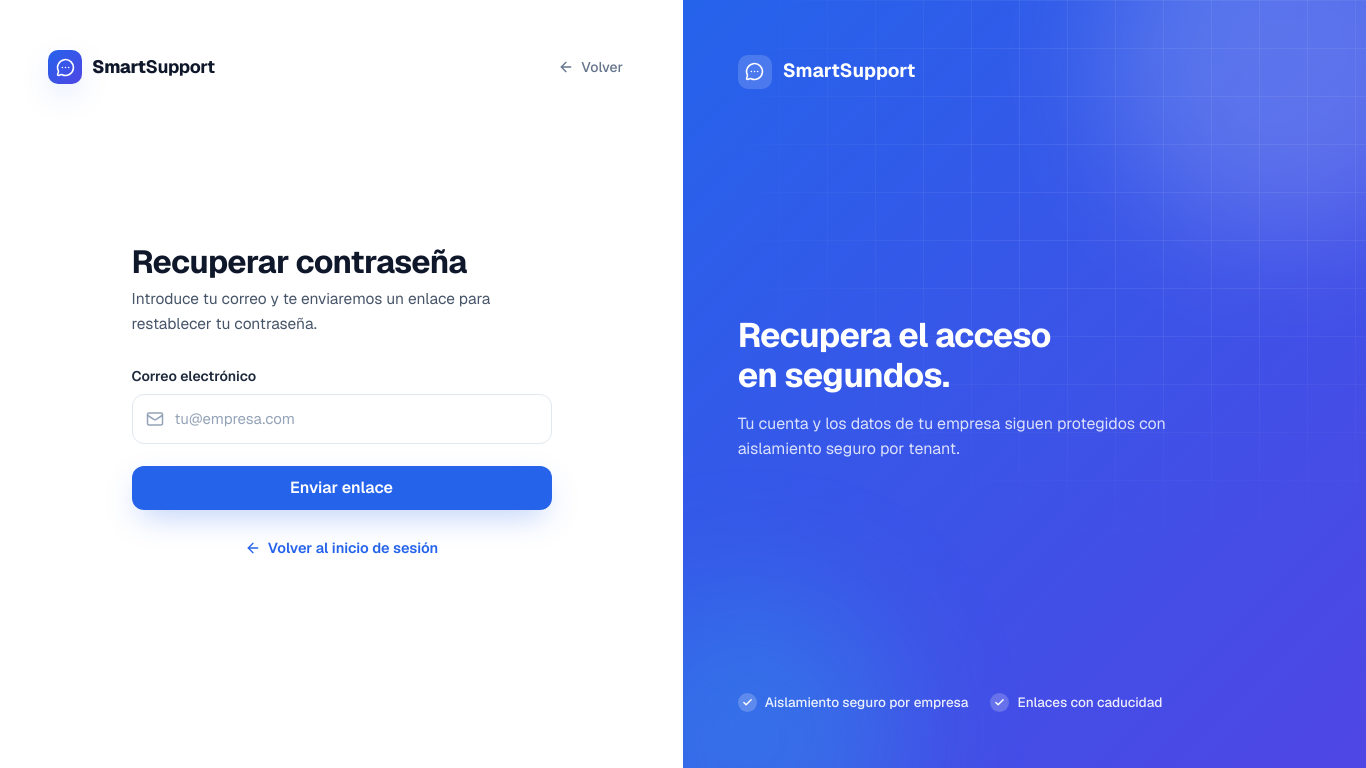
Test case: ForgotPasswordPage › muestra error si el email es inválido
The width and height of the screenshot is (1366, 768).
In the field labelled "Correo electrónico": (342, 419) [132,394,552,444], type "no-es-email"
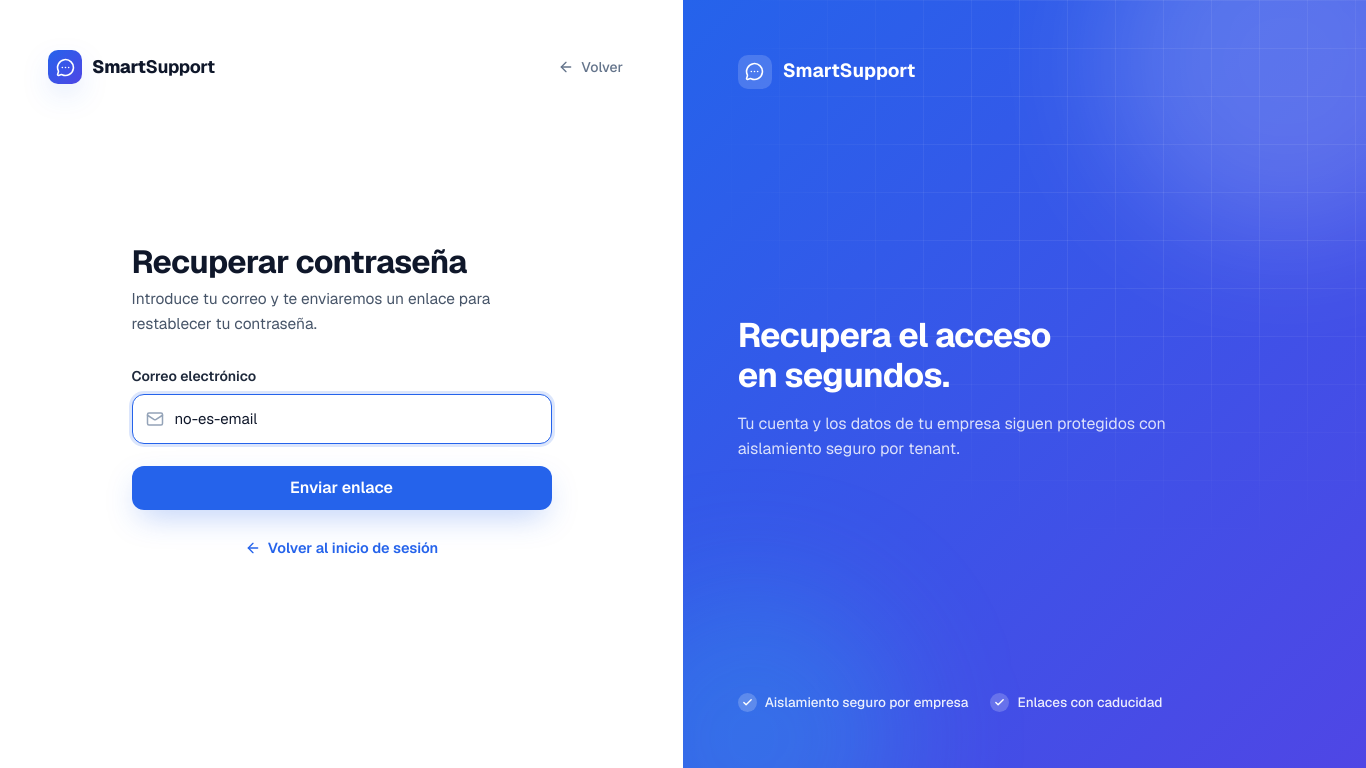
Click the button "Enviar enlace": click(342, 488) [132,466,552,510]
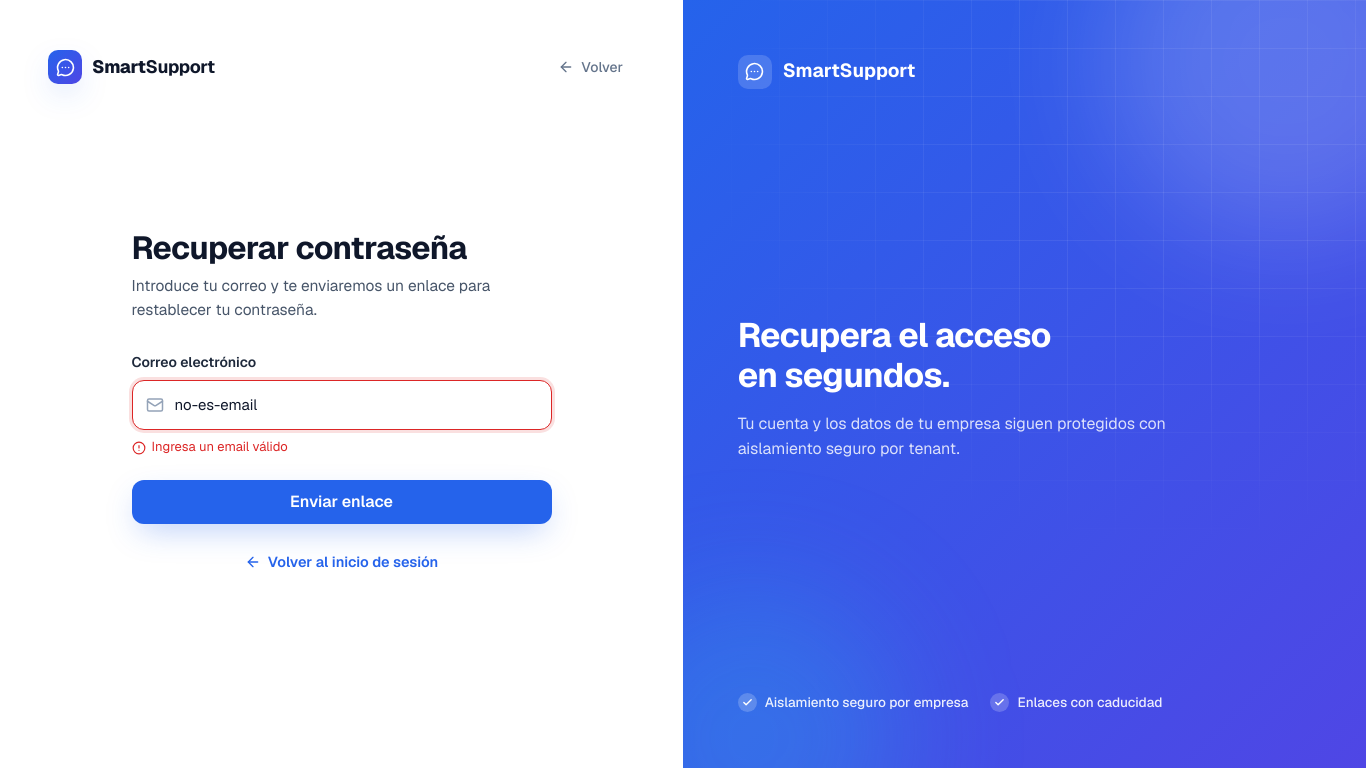
Check: the text "Ingresa un email válido" is shown, box [132,438,288,456]
